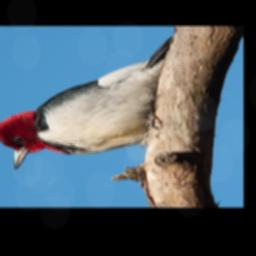Woodpecker: (0, 32, 173, 171)
